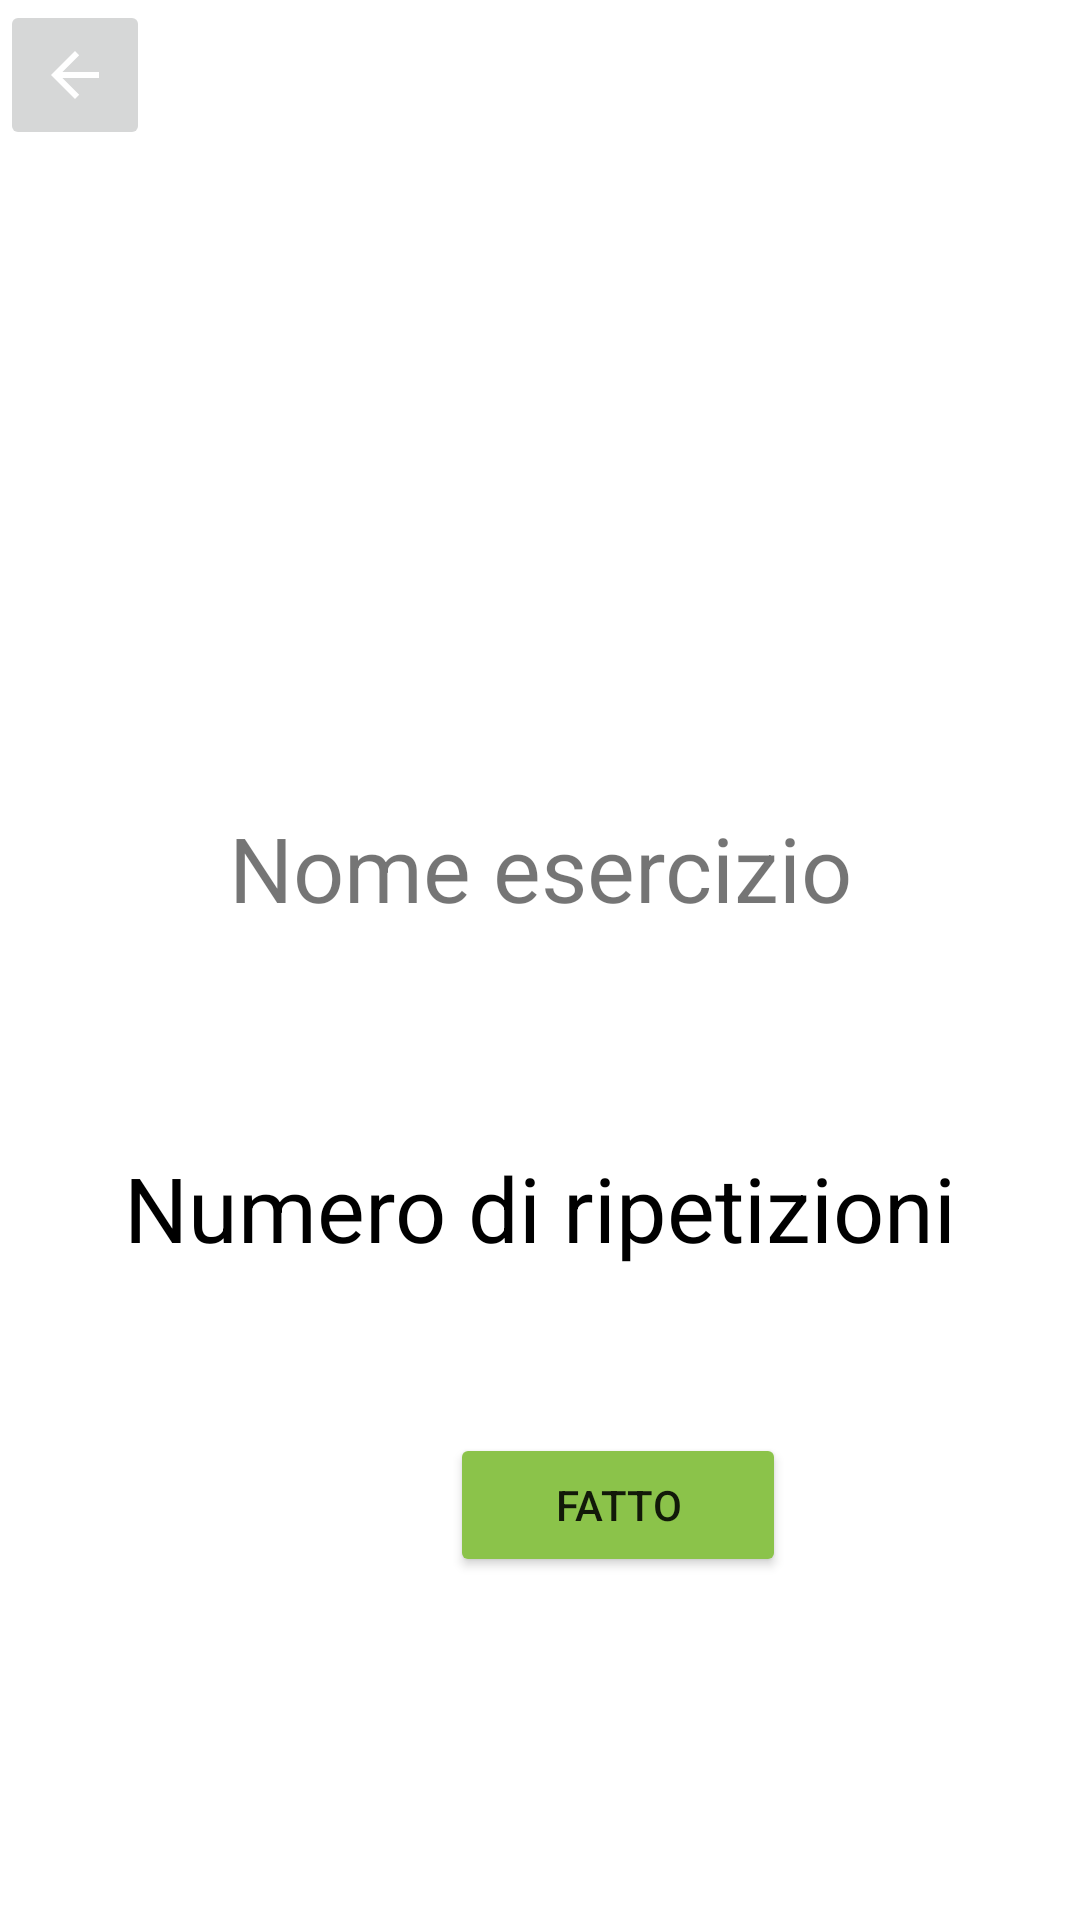

Where to tap for icons on this 1080w x 1920h app screen, as [x,y]:
Indietro: [75,75]
